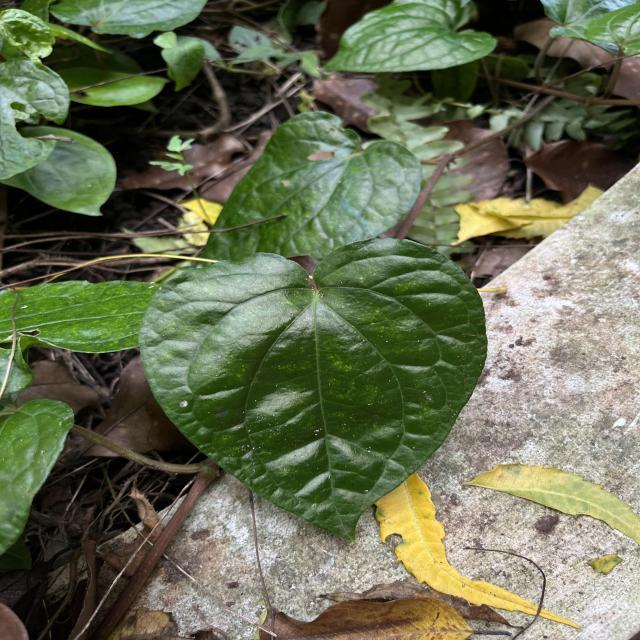Piper betle: (133, 233, 494, 546)
